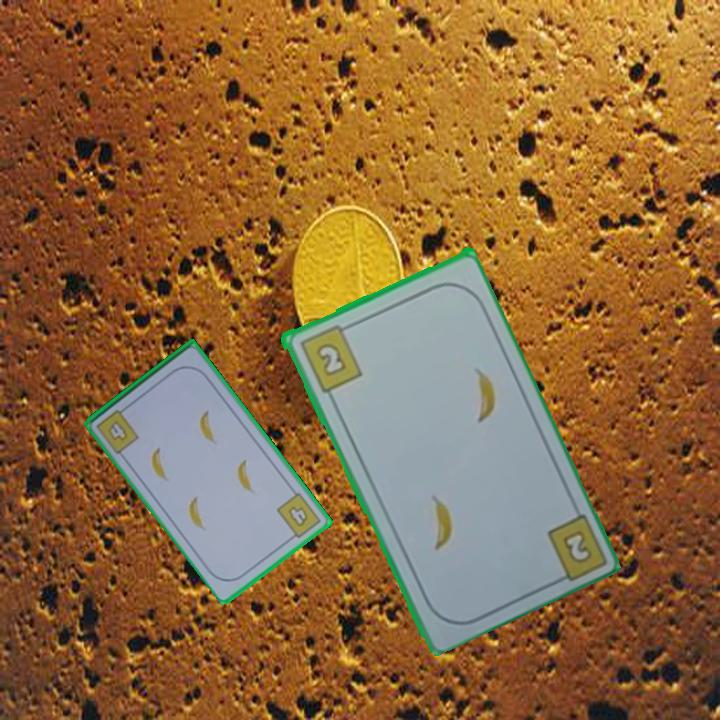2b: (295, 320, 365, 395), (558, 526, 595, 567)
4b: (273, 489, 324, 544), (93, 402, 142, 457)
